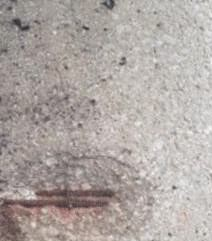Exposed reinforcement: (1, 198, 109, 209), (35, 188, 115, 199)
Spalling: (1, 153, 152, 241)
